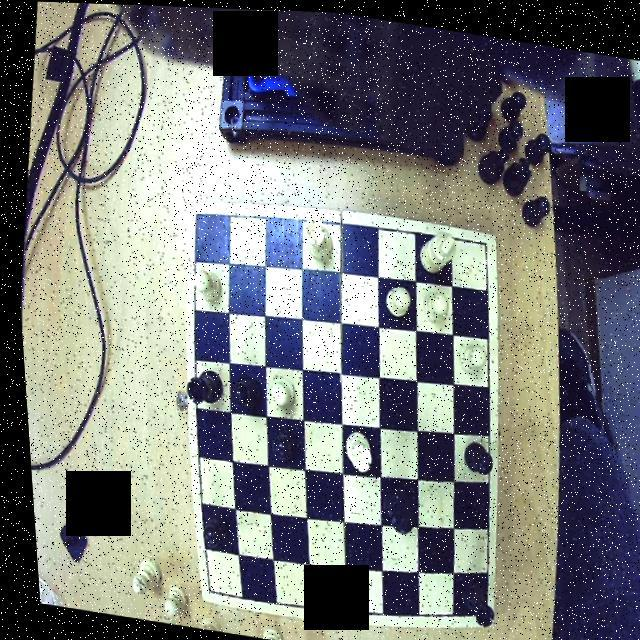chess-table-corners: (184, 202, 210, 231), (466, 593, 488, 625), (467, 227, 492, 254), (193, 578, 216, 603)
